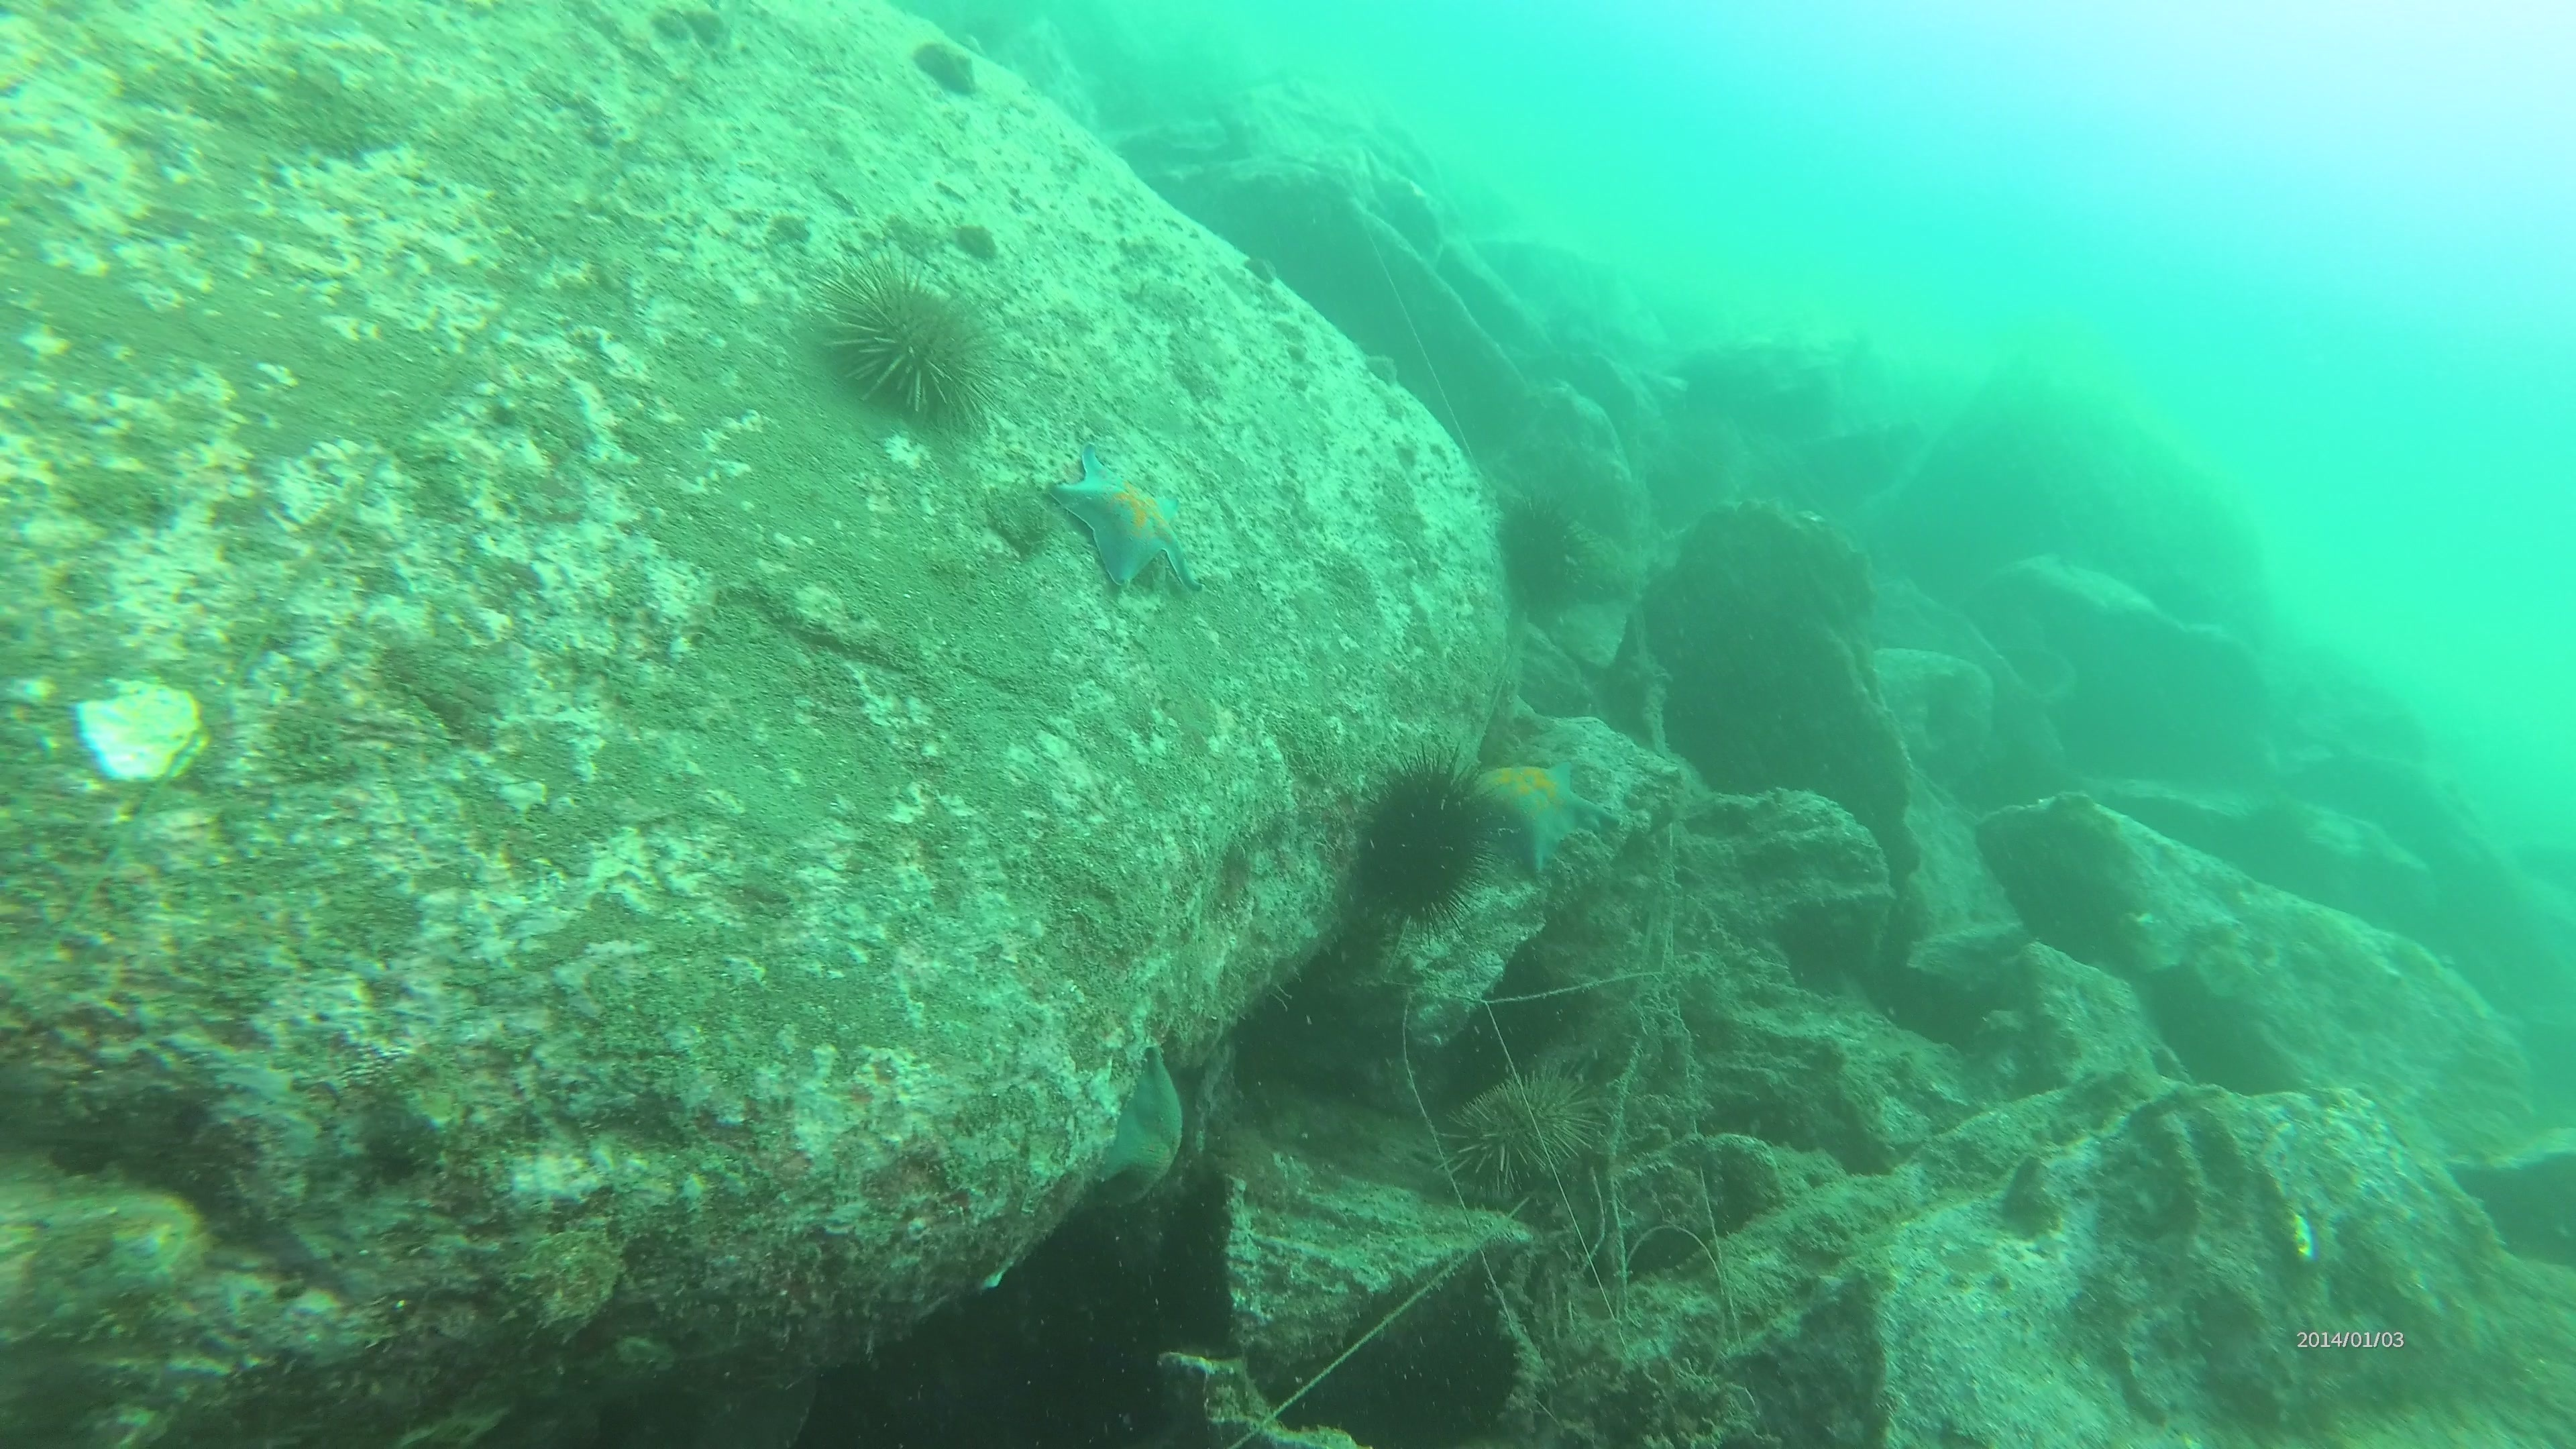echinus: (814, 255, 1001, 433), (1438, 1054, 1615, 1205), (1345, 752, 1495, 927), (1488, 488, 1594, 617)
starfish: (1044, 441, 1203, 600), (1463, 741, 1610, 874), (1086, 1040, 1192, 1207)
